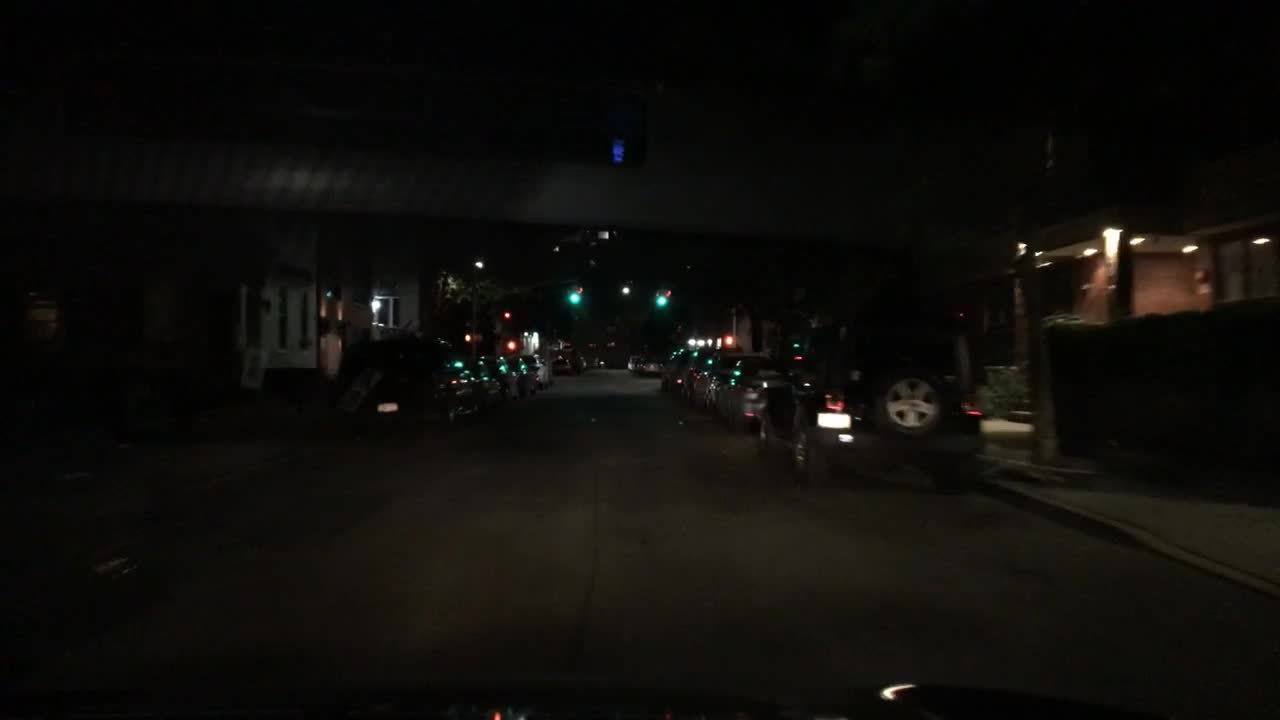car: (760, 318, 983, 496), (335, 339, 485, 436), (715, 360, 786, 436), (683, 352, 767, 414), (458, 365, 502, 407), (502, 352, 540, 396), (658, 349, 692, 392), (482, 355, 514, 396), (519, 354, 554, 391), (643, 354, 670, 376), (547, 357, 577, 376), (571, 354, 594, 372), (633, 355, 650, 374), (626, 354, 641, 371), (587, 357, 604, 369)
traffic light: (566, 288, 581, 305), (655, 295, 668, 307)
